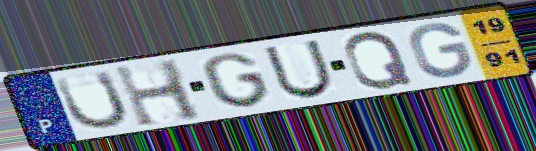G: (199, 50, 274, 110), (407, 21, 475, 80)
H: (110, 57, 208, 130)
Q: (341, 29, 417, 91)
U: (52, 68, 133, 132), (260, 37, 337, 101)
